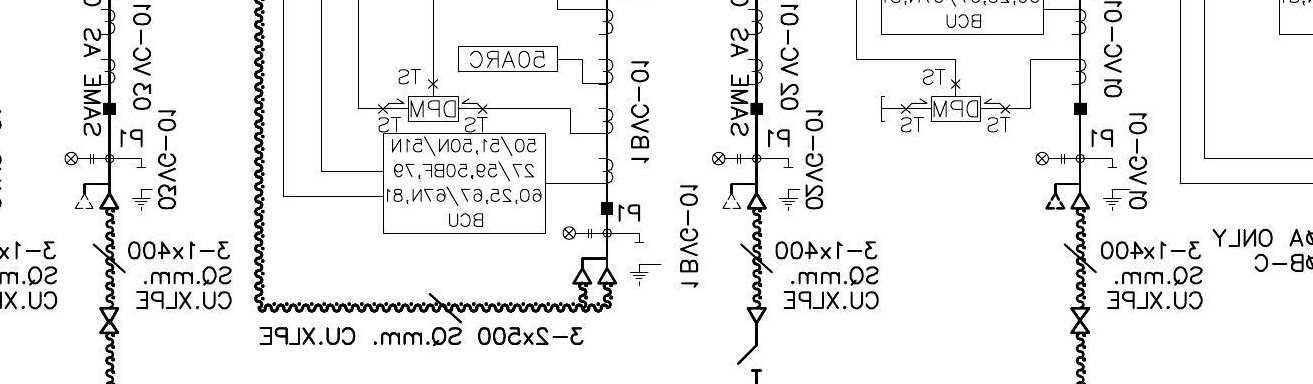22_gs: (628, 240, 662, 286), (1101, 165, 1131, 211), (778, 166, 802, 211), (131, 165, 154, 211)
22_ll: (1035, 151, 1066, 166), (711, 151, 742, 166), (562, 226, 593, 241), (64, 151, 95, 166)
DPM: (929, 95, 983, 123), (407, 95, 460, 123)
terminator_double: (571, 256, 618, 285)
terminator_single: (745, 306, 768, 325)
terminator_splicing_kits: (1070, 306, 1091, 334), (99, 306, 120, 334)
terminator_w_future: (1044, 181, 1091, 211), (73, 181, 120, 211), (721, 182, 768, 211)
